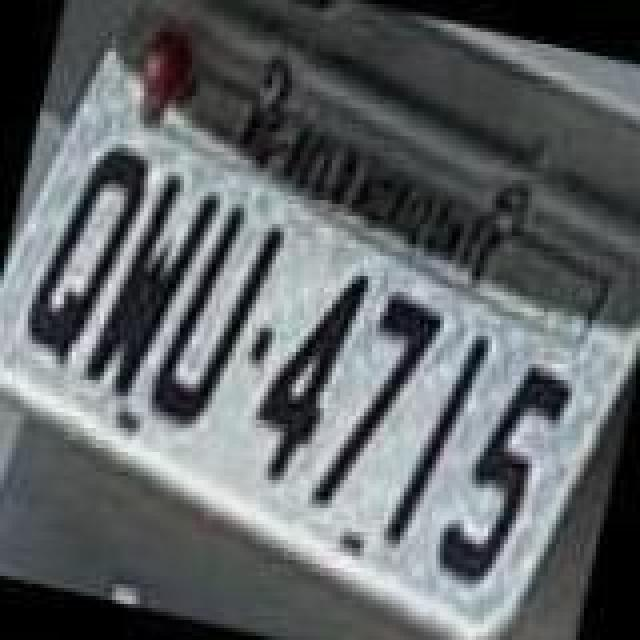1: (380, 322, 496, 562)
4: (236, 254, 372, 498)
5: (428, 350, 576, 602)
7: (306, 282, 450, 530)
Q: (20, 132, 160, 380)
U: (142, 194, 290, 442)
W: (76, 158, 228, 414)
